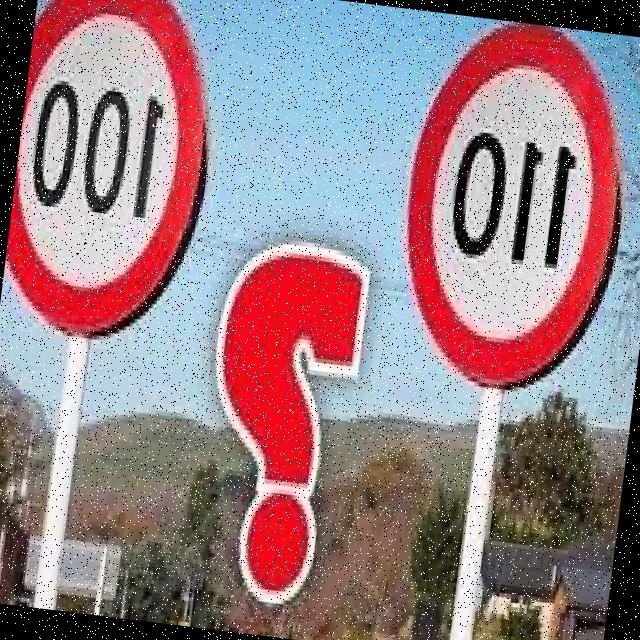speed_limit_100: (0, 0, 237, 346)
